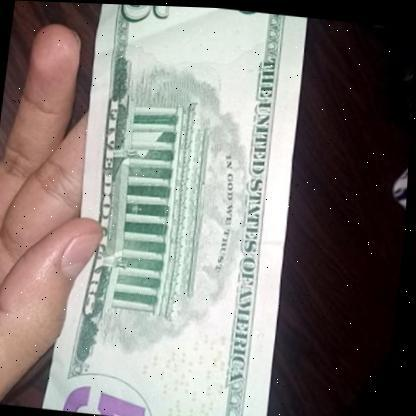dollar_back: (50, 2, 316, 416)
